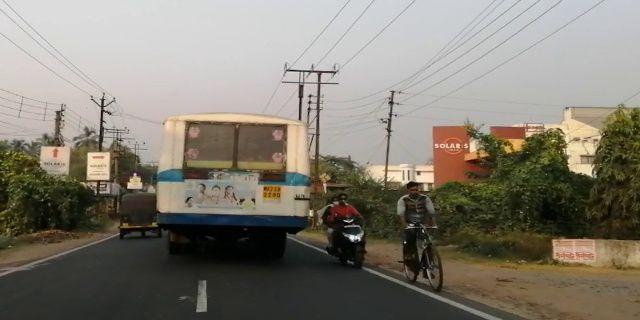Autorickshaw: (115, 189, 160, 243)
Bus: (150, 110, 317, 261)
Cycle: (393, 176, 454, 294)
Motorbike: (320, 189, 376, 273)
